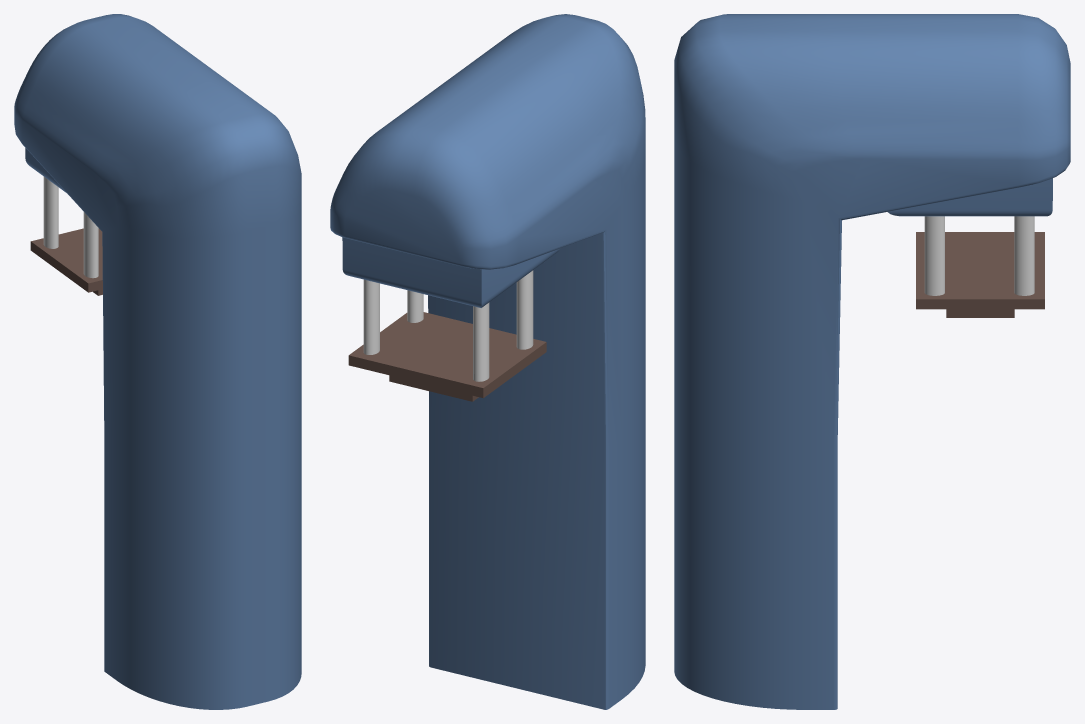
The model's file is presskare.fbx.
The picture shows the model from 3 angles, left to right: view 1: azimuth 30°, elevation 25°; view 2: azimuth 150°, elevation 25°; view 3: azimuth 270°, elevation 25°; orthographic projection. The views are drawn at different scales.
Visible parts, largest first — view 1: Cube.002; view 2: Cube.002; view 3: Cube.002.
Boxes of the visible parts, x1,y1,x2,y2 form: Cube.002: (14,14,301,709); Cube.002: (330,14,645,709); Cube.002: (674,14,1070,709).
Size of the model in its own units: 52.36 by 175 by 98.2.
